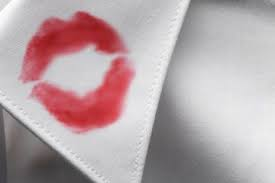kimchi: (13, 16, 135, 127), (25, 14, 124, 50), (32, 82, 84, 121), (64, 92, 117, 127), (14, 45, 51, 80), (101, 67, 135, 95)
